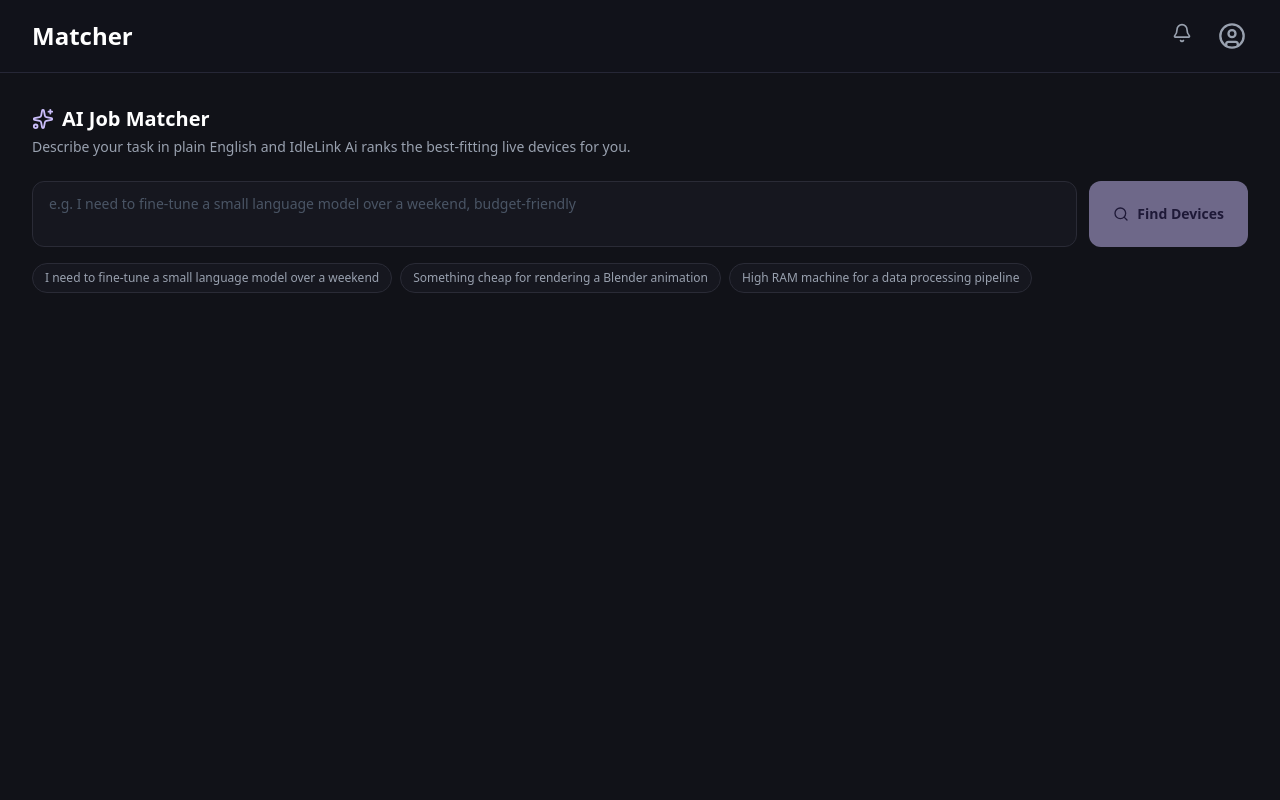
Test: MatcherPage › fills the query from an example prompt and searches
What coordinates should you click on to do the following:
click the button "I need to fine-tune a small language model over a weekend"
I would click on:
 (212, 278)
Its box is [32,263,392,293].
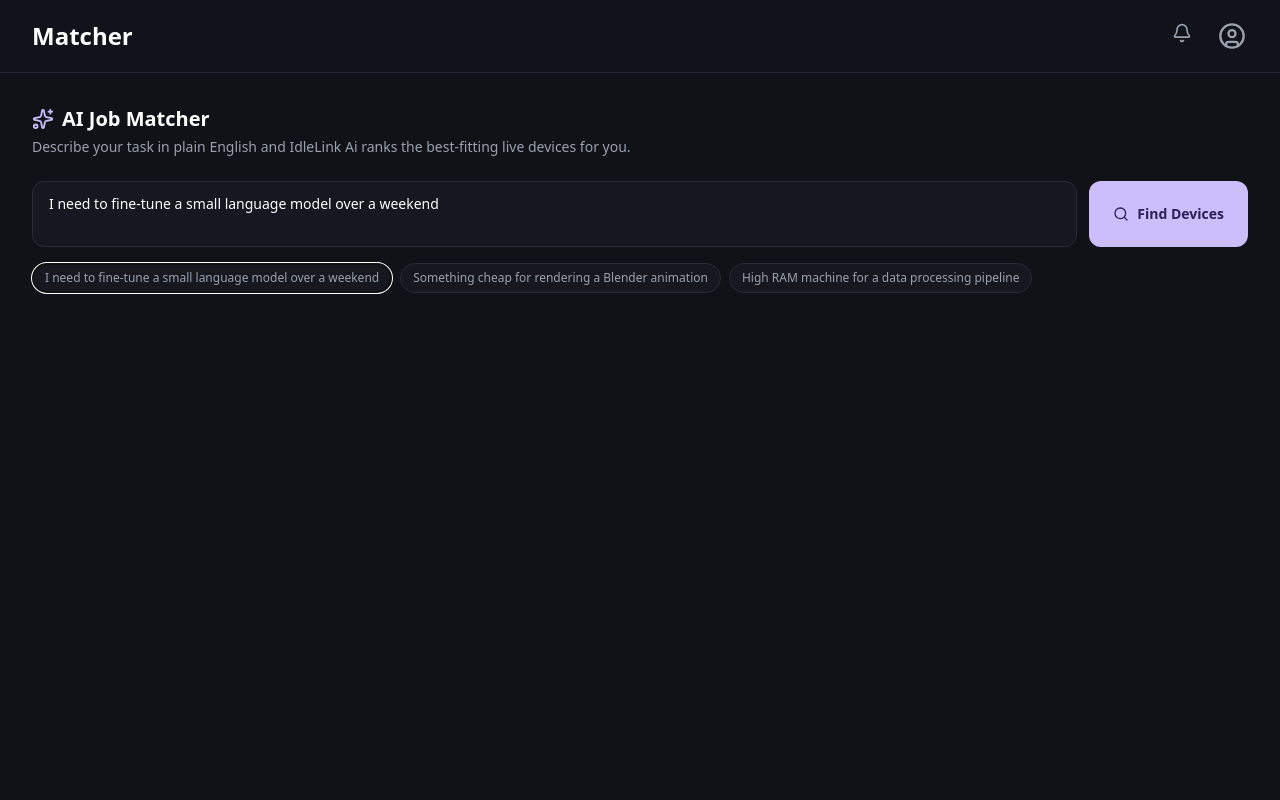
What coordinates should you click on to do the following:
click the button "Find Devices"
I would click on:
 (1169, 214)
Its box is [1089,181,1248,247].
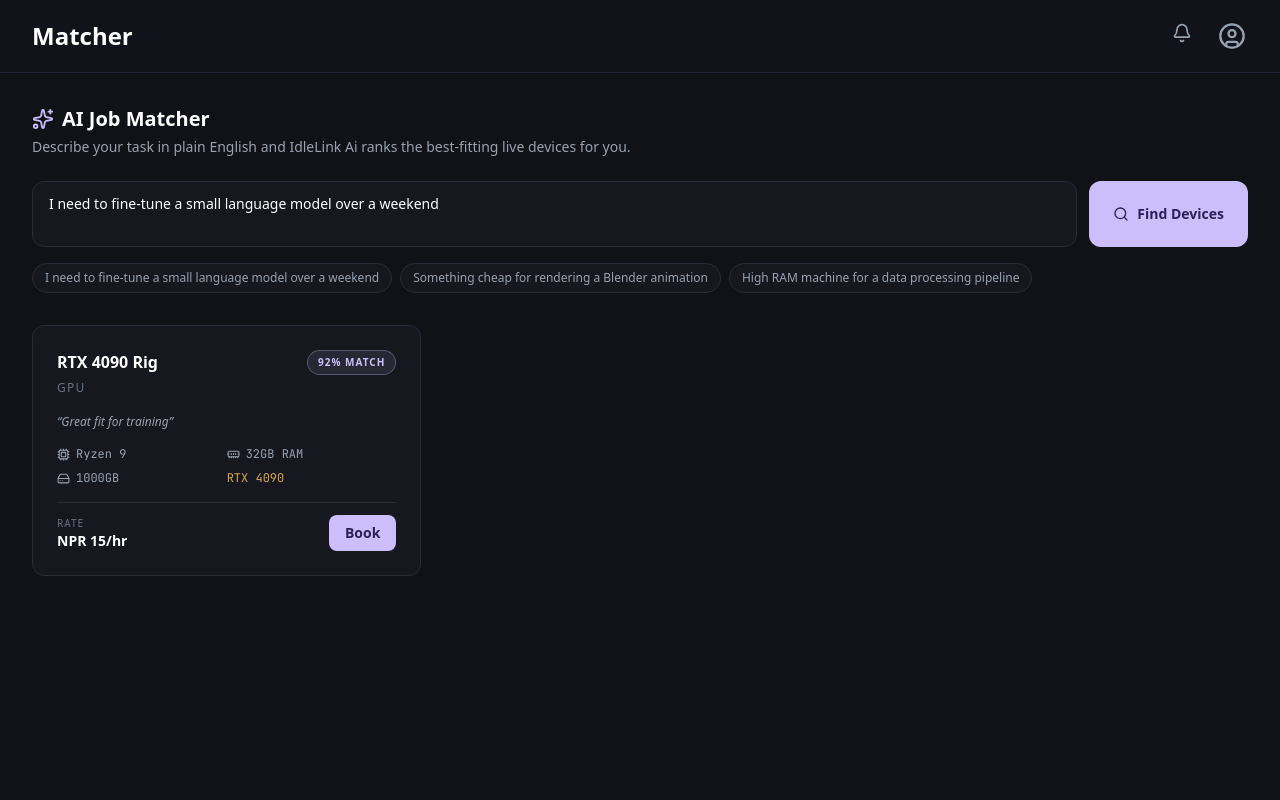
Expected: the heading "RTX 4090 Rig" is shown, [57,350,158,374]
Expected: the text "92% match" is shown, [307,350,396,375]
